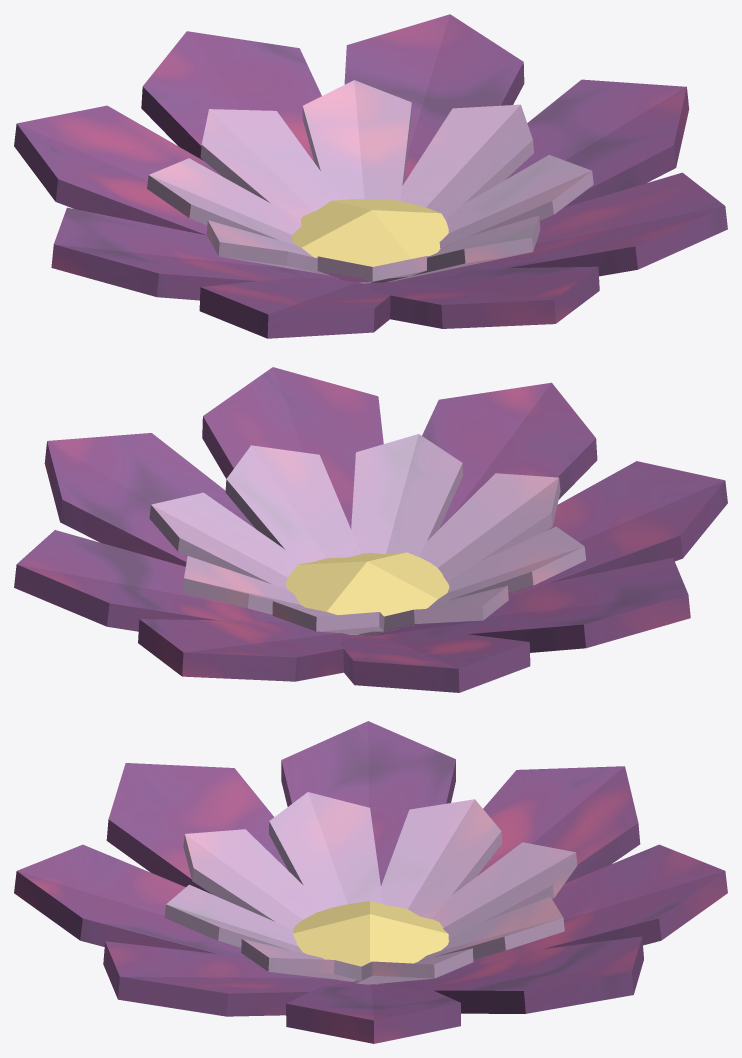
The model's file is flower.glb.
The picture shows the model from 3 angles, top to bottom: view 1: azimuth 30°, elevation 25°; view 2: azimuth 150°, elevation 25°; view 3: azimuth 270°, elevation 25°; orthographic projection. The views are drawn at different scales.
Parts seen in each view (by area): view 1: Cube.002; view 2: Cube.002; view 3: Cube.002.
Part boxes in pixels (x1=…): Cube.002: x1=14, y1=14, x2=727, y2=338; Cube.002: x1=14, y1=367, x2=727, y2=692; Cube.002: x1=14, y1=721, x2=727, y2=1043.
Size of the model in its own units: 1 by 0.2 by 1.
1 material, 1 textured.
